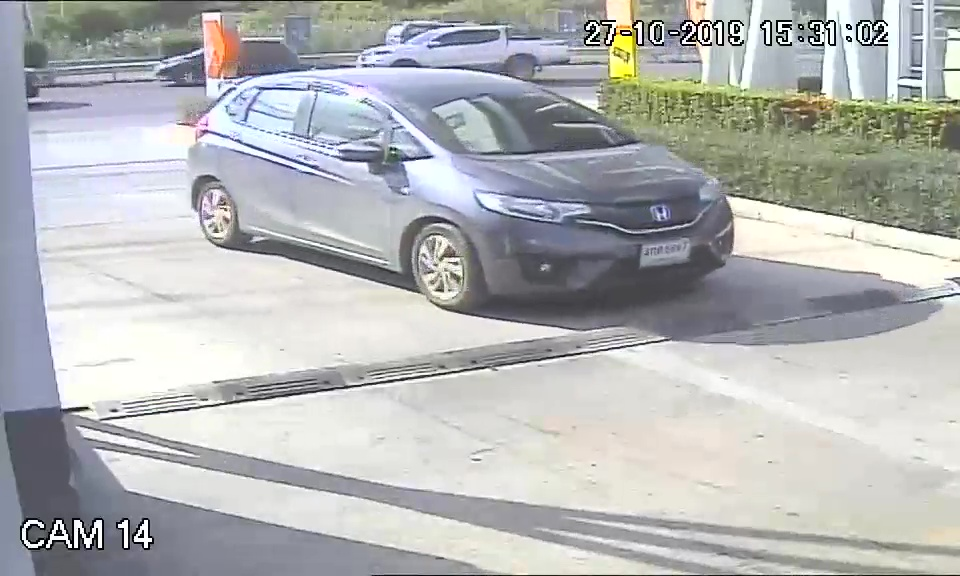sedan: (180, 63, 741, 313)
